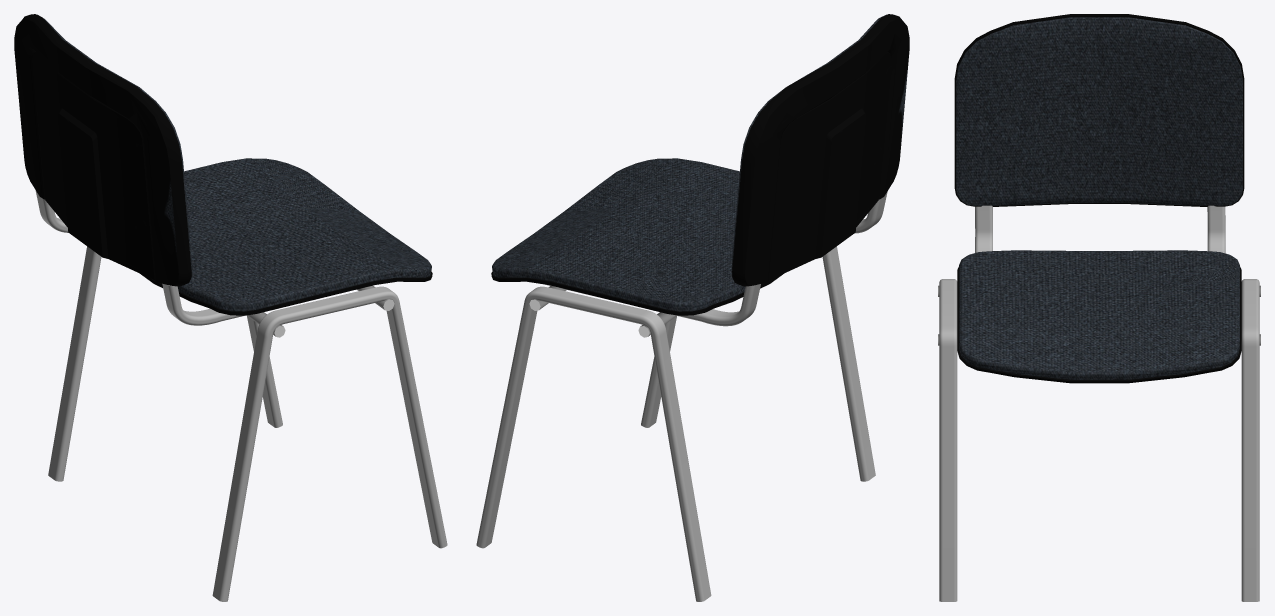
The model's file is chair.obj.
The picture shows the model from 3 angles, left to right: view 1: azimuth 30°, elevation 25°; view 2: azimuth 150°, elevation 25°; view 3: azimuth 270°, elevation 25°; orthographic projection. The views are drawn at different scales.
Parts seen in each view (by area): view 1: спинка, сидение, Sweep.1, Sweep, Sweep.3; view 2: спинка, сидение, Sweep, Sweep.1, Sweep.2; view 3: спинка, сидение, Sweep.1, Sweep, Sweep.2, Sweep.3.
Part boxes in pixels (box(x1,y1,x2,y2)): спинка: box(14, 14, 192, 286); сидение: box(140, 158, 432, 315); Sweep.1: box(212, 286, 447, 601); Sweep: box(48, 246, 282, 481); Sweep.3: box(162, 283, 244, 325); спинка: box(731, 14, 909, 286); сидение: box(491, 158, 783, 315); Sweep: box(476, 286, 711, 601); Sweep.1: box(641, 246, 875, 481); Sweep.2: box(544, 284, 760, 326); спинка: box(954, 14, 1244, 206); сидение: box(957, 250, 1241, 383); Sweep.1: box(939, 279, 957, 601); Sweep: box(1241, 279, 1259, 601); Sweep.2: box(1207, 205, 1225, 253); Sweep.3: box(975, 205, 992, 252).
Bounding box in the file's own units: 54.38 × 85.17 × 54.
